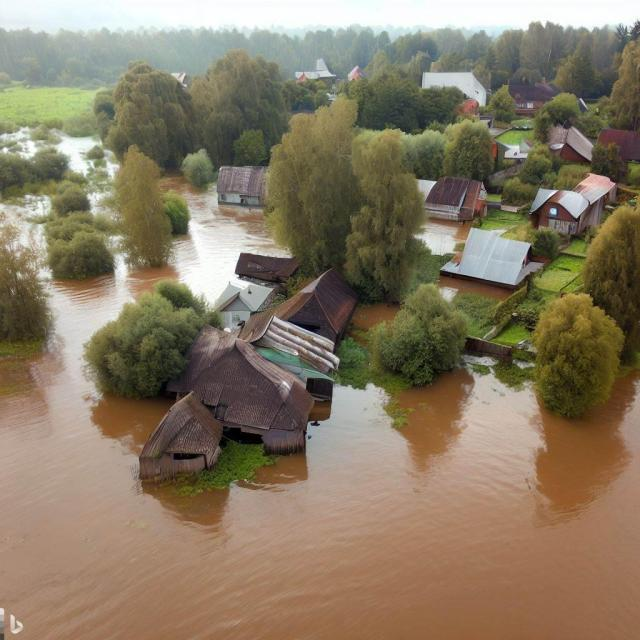flood: (0, 176, 640, 640), (0, 196, 48, 247), (56, 136, 116, 175), (438, 275, 514, 303), (417, 218, 472, 255), (352, 303, 401, 331), (2, 128, 38, 156)
house: (185, 320, 337, 448), (141, 390, 224, 484), (439, 226, 540, 288), (281, 268, 361, 344), (562, 168, 614, 242), (530, 180, 584, 245), (216, 162, 271, 217), (426, 172, 482, 226), (228, 254, 301, 284), (548, 120, 594, 164), (597, 126, 640, 162)
